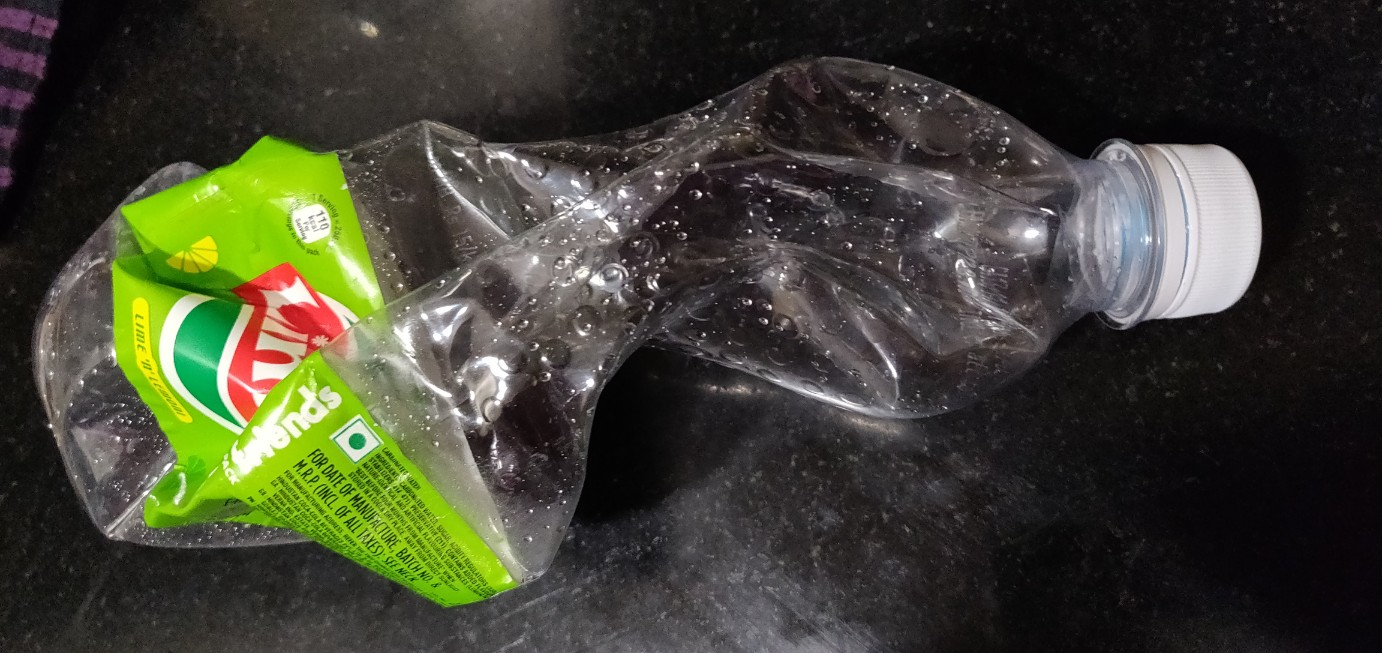Electronics: (19, 41, 1290, 623)
